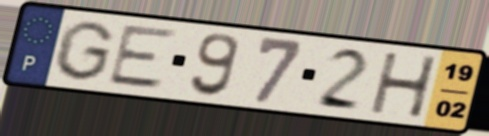2: (309, 48, 375, 112)
7: (255, 33, 306, 106)
9: (189, 31, 243, 99)
E: (104, 24, 182, 92)
G: (50, 18, 118, 83)
H: (368, 51, 440, 120)
